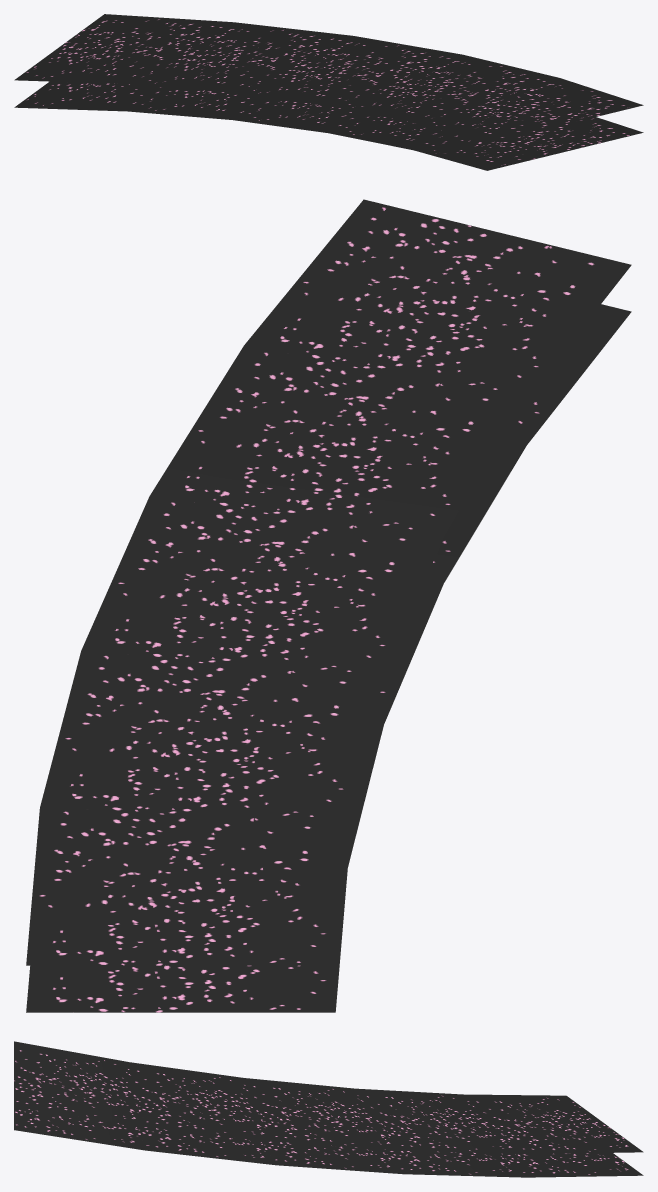
The model's file is CourseSpring_Box_Floor_10.fbx.
3 renders of one model, top to bottom at view 1: azimuth 30°, elevation 25°; view 2: azimuth 150°, elevation 25°; view 3: azimuth 270°, elevation 25°, orthographic. The views are drawn at different scales.
Parts seen in each view (by area): view 1: polySurface60; view 2: polySurface60; view 3: polySurface60.
Part boxes in pixels (left/top/right/bottom): polySurface60: left=14, top=14, right=643, bottom=170; polySurface60: left=26, top=199, right=631, bottom=1012; polySurface60: left=14, top=1041, right=643, bottom=1177.
Size of the model in its own units: 11.74 by 6 by 24.42.
Materials: 1 (1 with a texture image).
